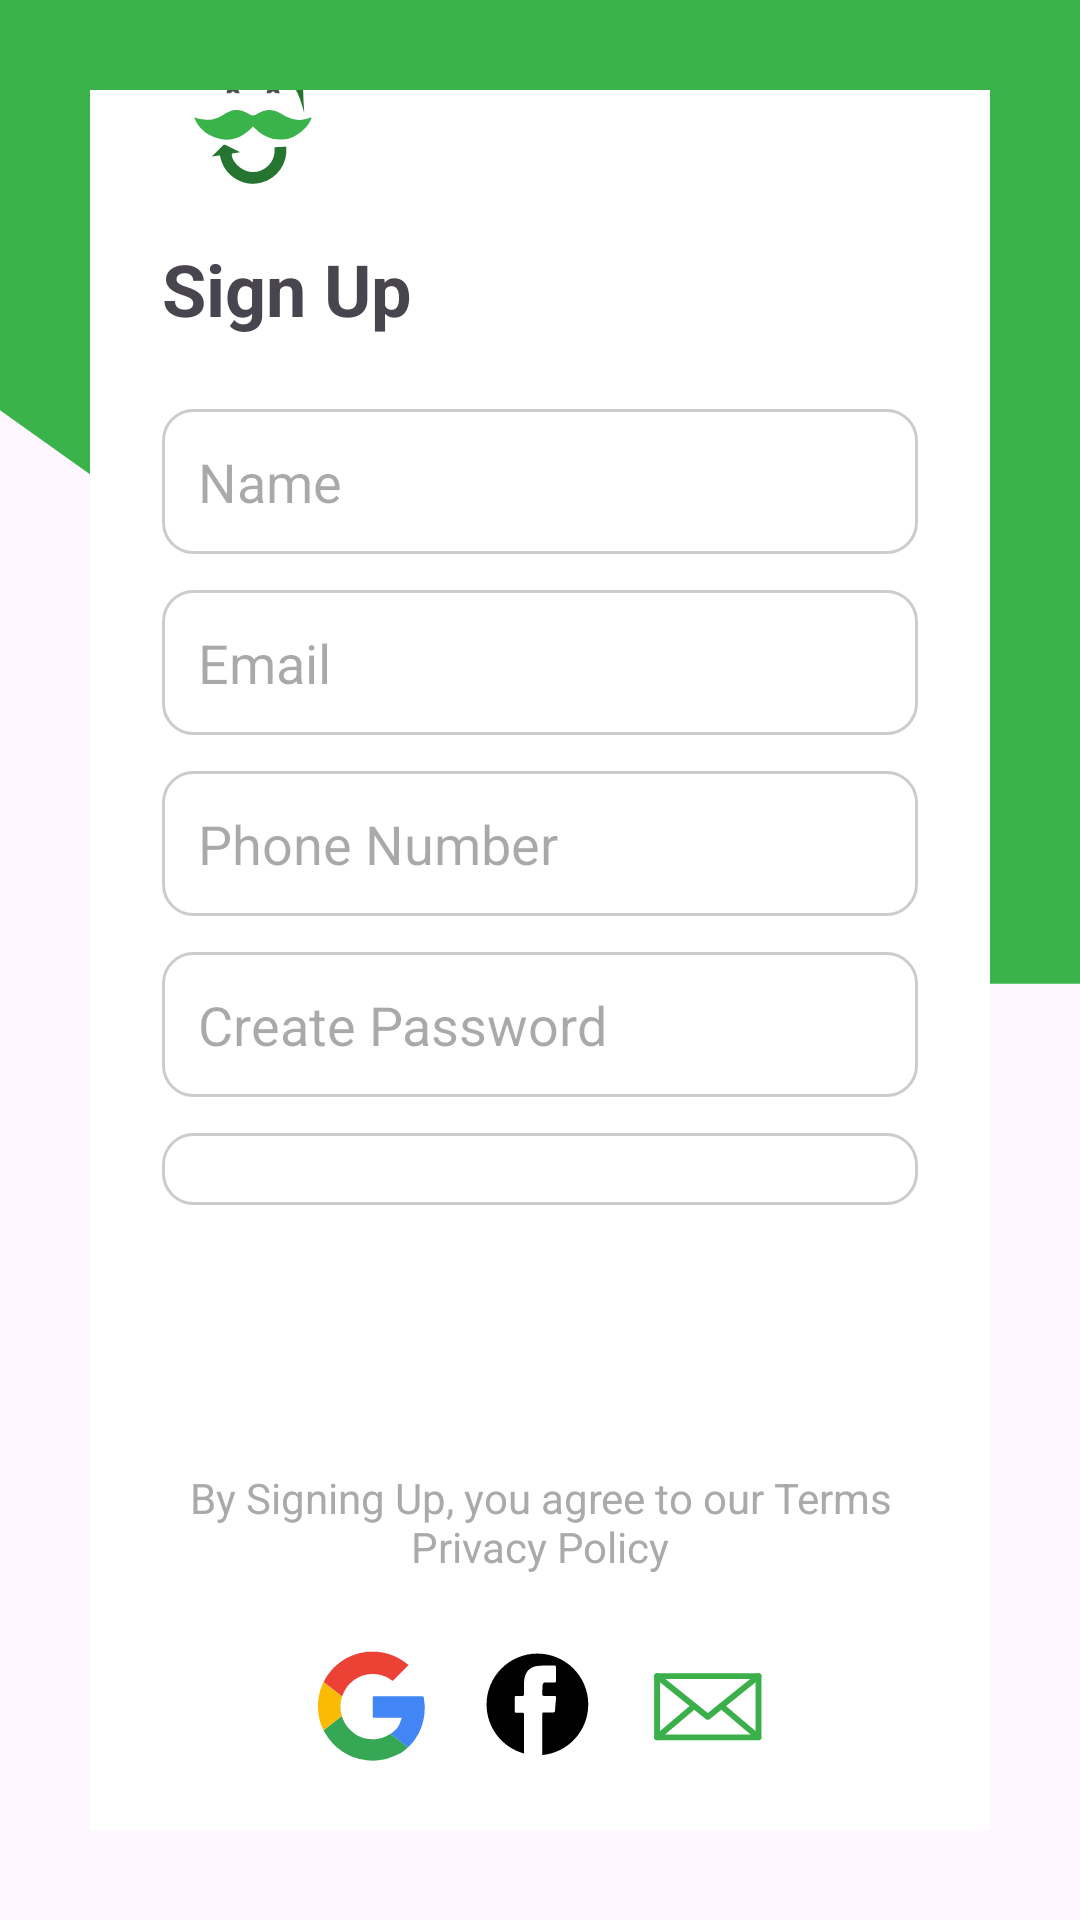

Screen size 1080px×1920px. Icon name, then its box in pixels as (x1, y1, x2, y2):
email: (654, 1673, 762, 1741)
